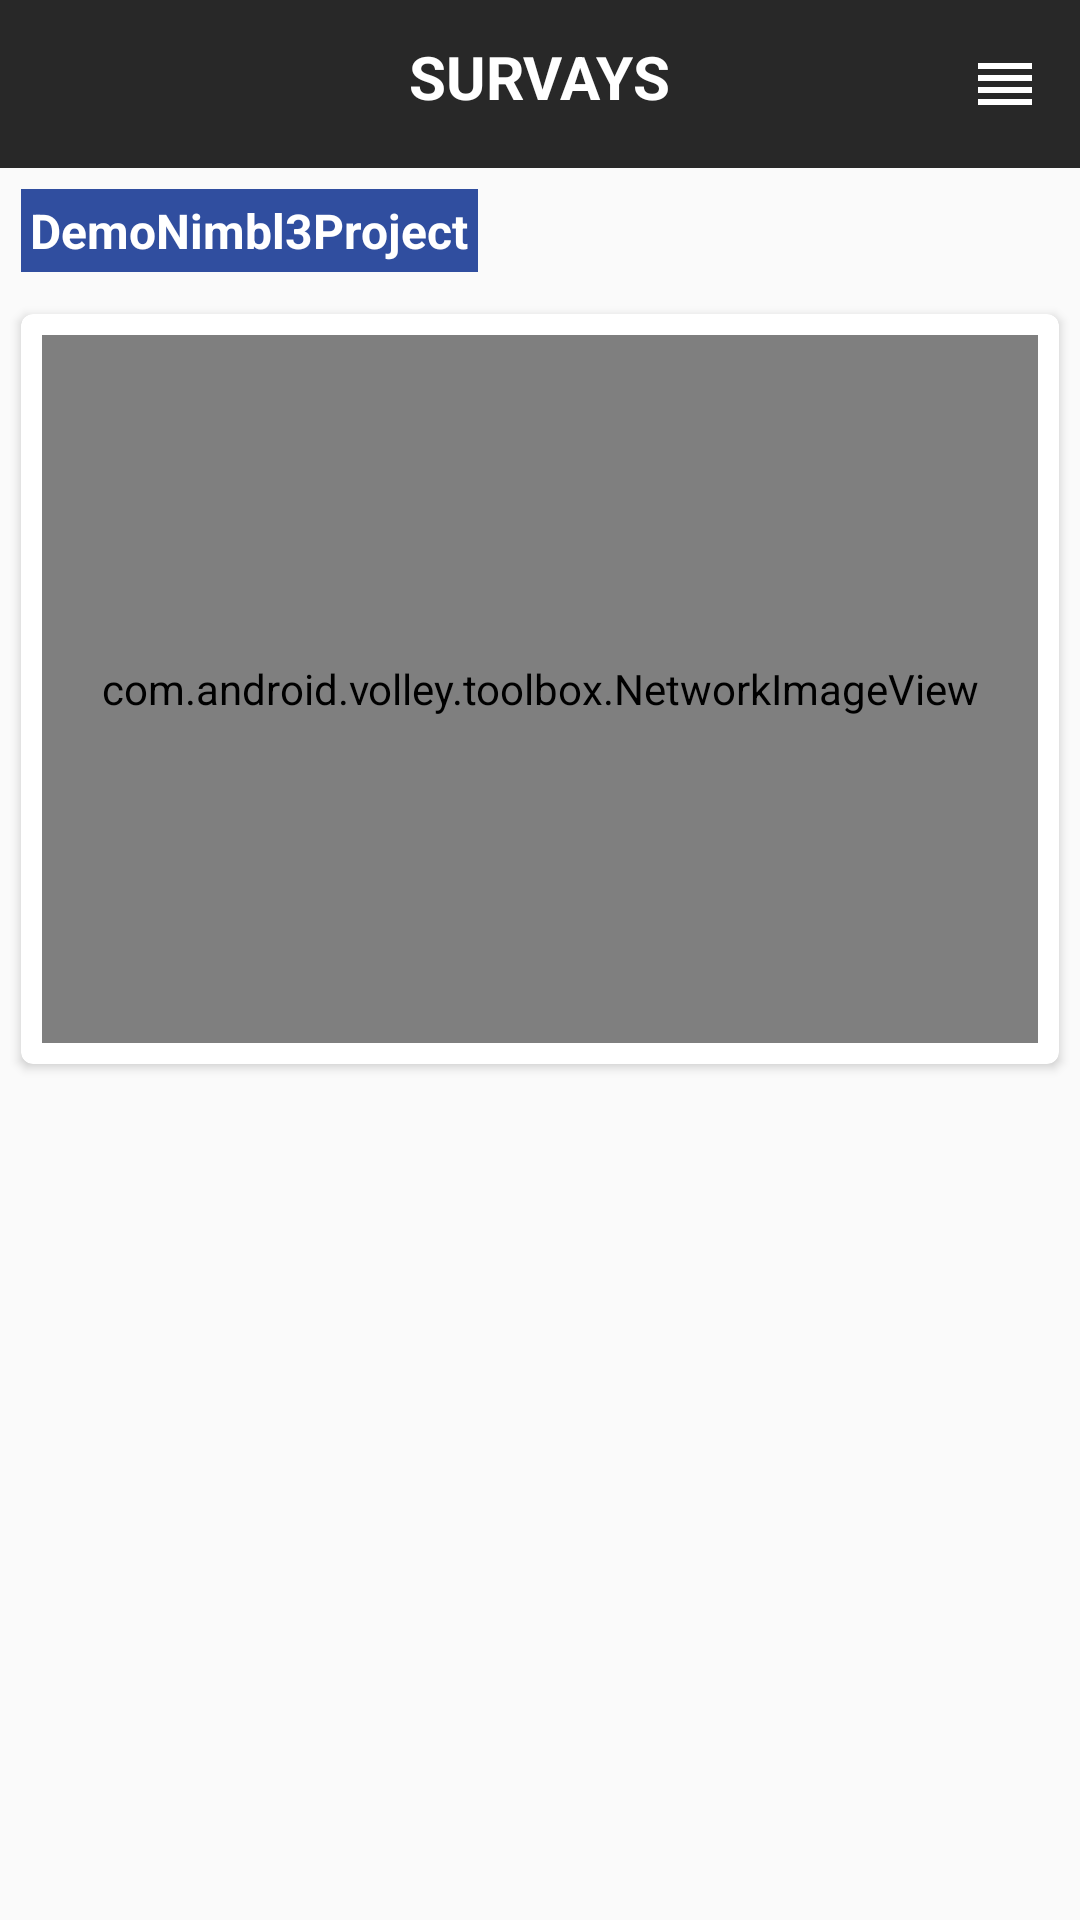

Icons on this 1080 × 1920 Android screen, each with its box as rect(x1, y1, x2, y2):
reorder: rect(978, 63, 1032, 105)
